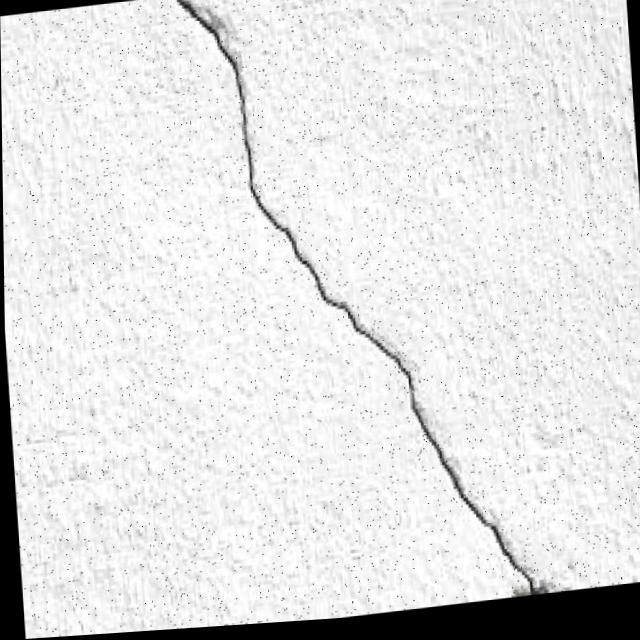Crack: (164, 0, 549, 631)
